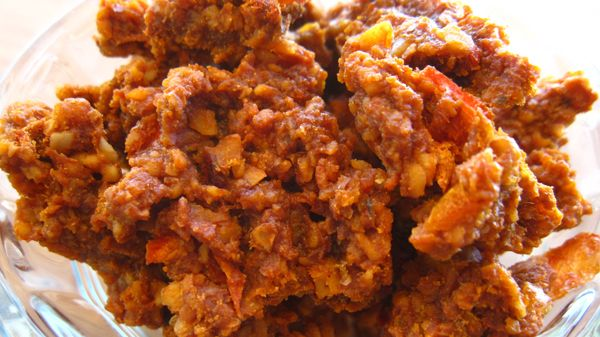ground_beef: (165, 73, 497, 284)
